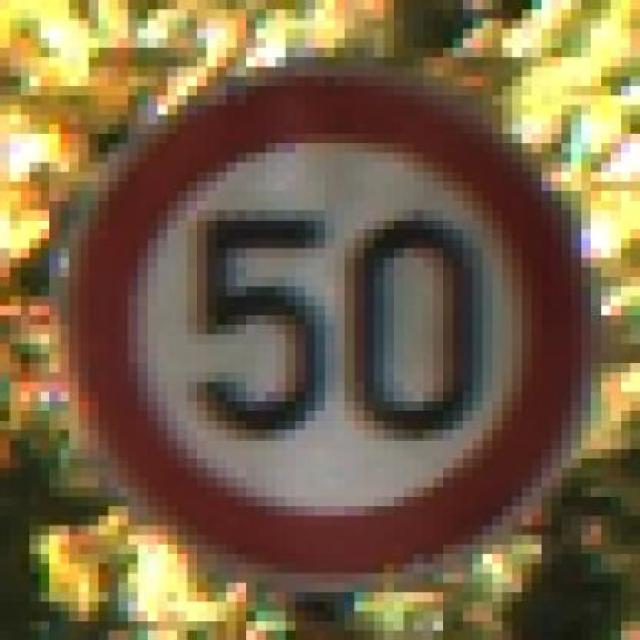Speed limit 50: (72, 71, 586, 580)
